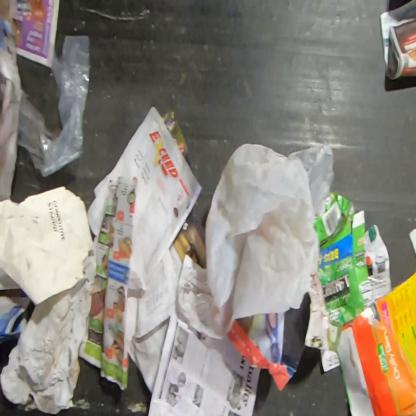cardboard: (336, 269, 415, 415), (314, 189, 370, 326)
soft_plastic: (176, 141, 336, 342), (18, 34, 91, 178)
